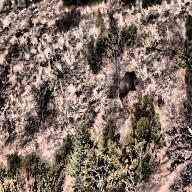boar: (117, 68, 144, 108)
